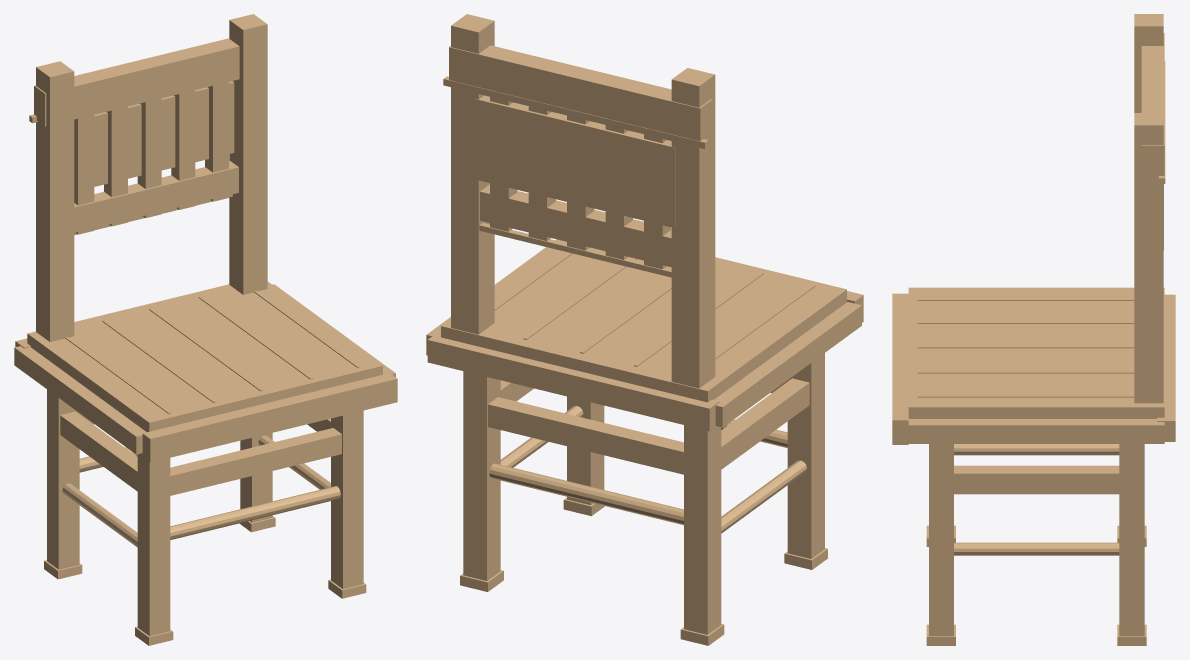
File: chair.glb
3 renders of one model, left to right at view 1: azimuth 30°, elevation 25°; view 2: azimuth 150°, elevation 25°; view 3: azimuth 270°, elevation 25°, orthographic. The views are drawn at different scales.
Parts seen in each view (by area): view 1: =>[0:1:1:2]; view 2: =>[0:1:1:2]; view 3: =>[0:1:1:2].
Boxes of the visible parts, x1,y1,x2,y2 form: =>[0:1:1:2]: [14, 14, 397, 645]; =>[0:1:1:2]: [426, 14, 863, 645]; =>[0:1:1:2]: [892, 14, 1175, 645].
Bounding box in the file's own units: 0.578 × 1.05 × 0.52.
